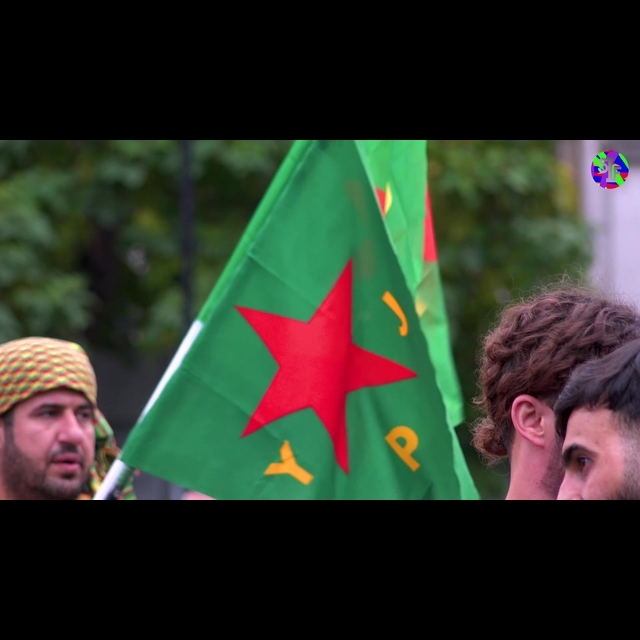YPJ: (232, 254, 425, 488)
